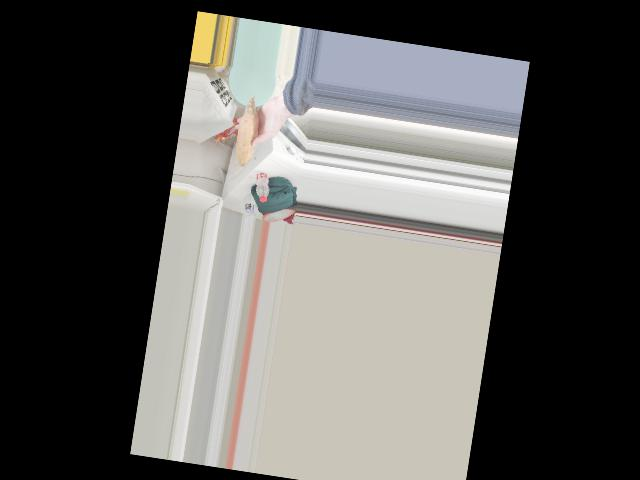sweet_potato: (237, 104, 260, 158)
